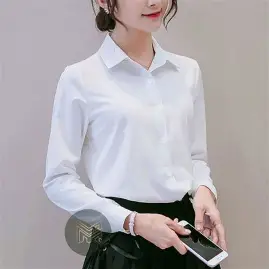kemeja_benar: (47, 30, 230, 195)
